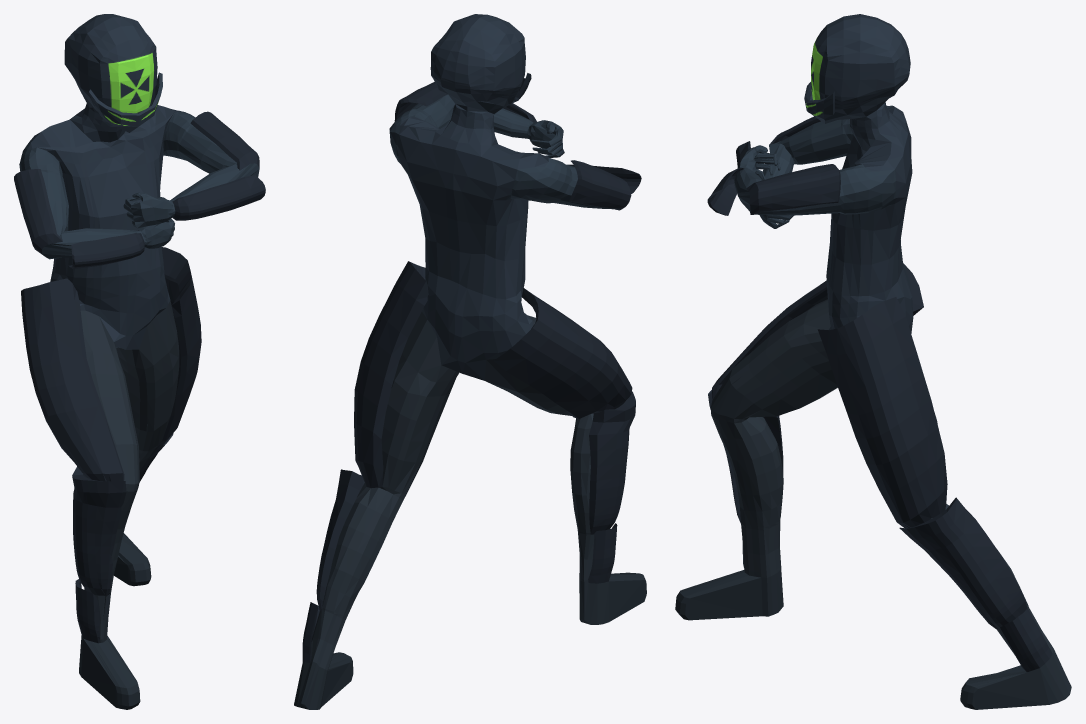
The model's file is Bastion_WF_000025.obj.
3 renders of one model, left to right at view 1: azimuth 30°, elevation 25°; view 2: azimuth 150°, elevation 25°; view 3: azimuth 270°, elevation 25°, orthographic. The views are drawn at different scales.
Parts seen in each view (by area): view 1: Cube.002; view 2: Cube.002; view 3: Cube.002.
Part boxes in pixels (<box>): Cube.002: <box>14,14,265,709</box>; Cube.002: <box>294,14,646,709</box>; Cube.002: <box>675,14,1071,709</box>.
Size of the model in its own units: 1.31 by 3.63 by 2.02.
